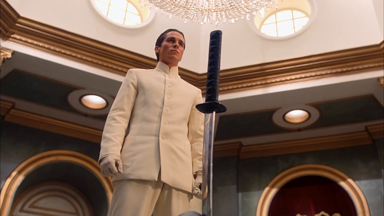bladed_weapon: (192, 31, 230, 214)
